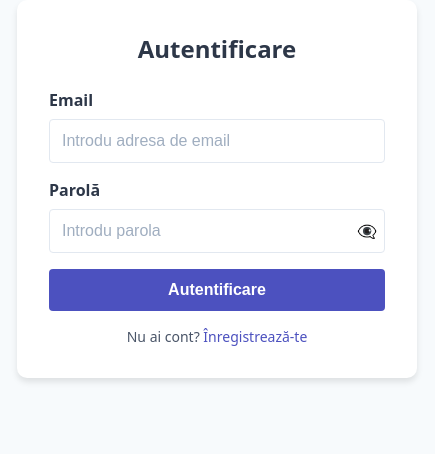
Test case: Login Page Tests › should show validation errors for invalid inputs
# Apasă butonul de autentificare fără a completa câmpurile
Click the button "Autentificare". click: (217,290)
box: [49,269,385,311]
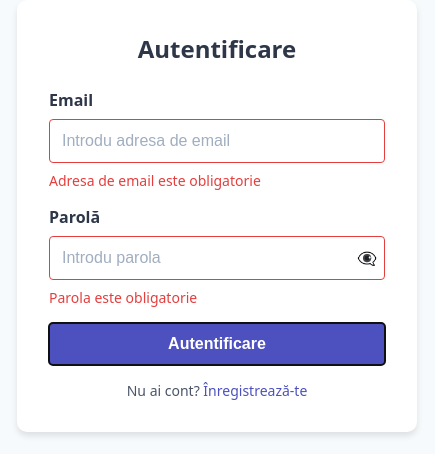
Check: the text "Adresa de email este obligatorie" is shown, box [49,171,261,190]
Check: the text "Parola este obligatorie" is shown, box [49,288,197,307]
# Completează email invalid
Type "invalid-email" into the field labelled "Email". click: (217,141)
box: [49,119,385,163]
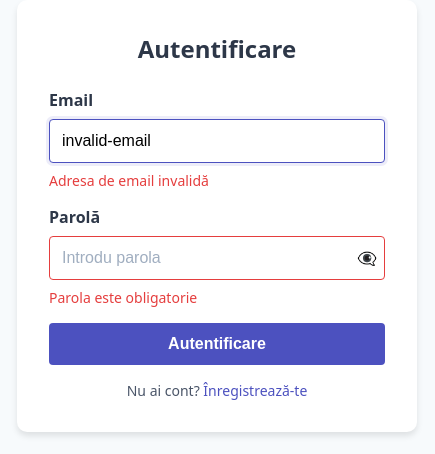
Check: the text "Adresa de email invalidă" is shown, box [49,171,209,190]
